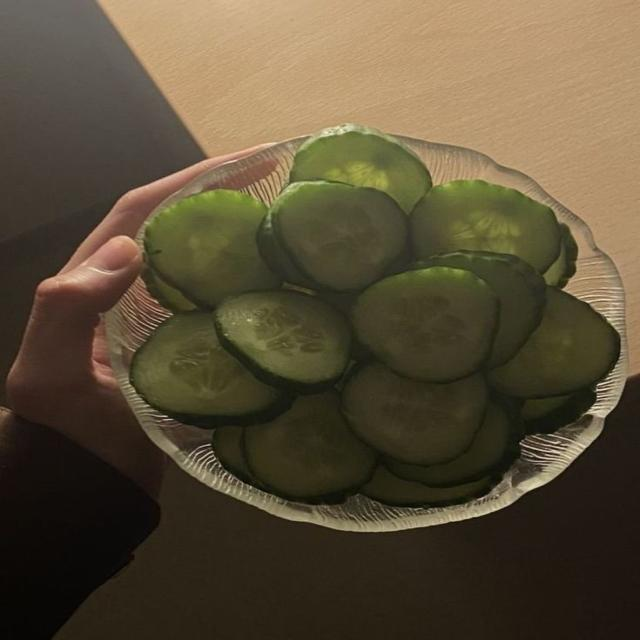cucumber sliced: (130, 312, 290, 427), (352, 267, 498, 382), (145, 190, 279, 307), (270, 181, 408, 291), (418, 251, 545, 368), (343, 363, 487, 465), (243, 391, 376, 501), (489, 287, 619, 398), (215, 290, 351, 394), (411, 180, 559, 273), (290, 124, 431, 212), (384, 402, 524, 487), (361, 465, 496, 506), (256, 214, 316, 290), (523, 388, 596, 433), (141, 261, 196, 311), (212, 427, 259, 485), (544, 224, 578, 288)
